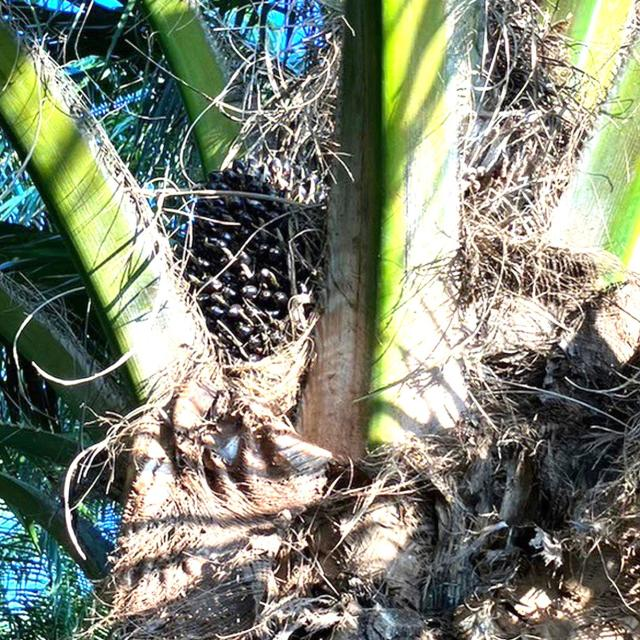almost: (142, 149, 346, 407)
